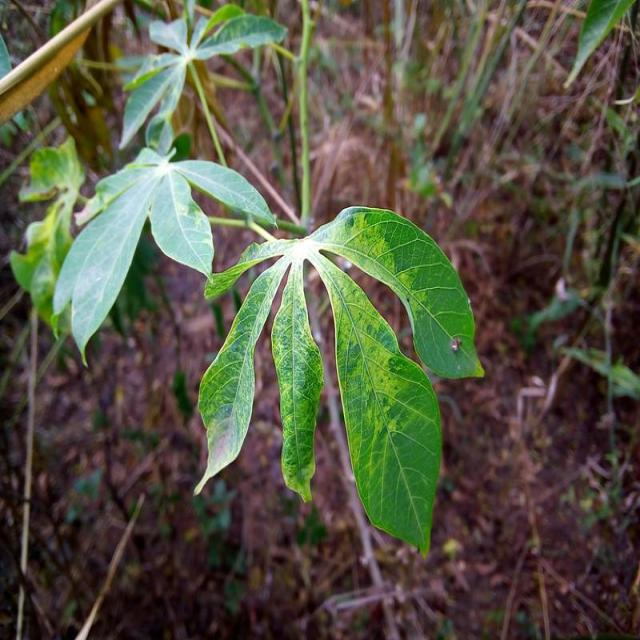cassava leaf: (194, 203, 484, 556), (51, 144, 278, 366)
